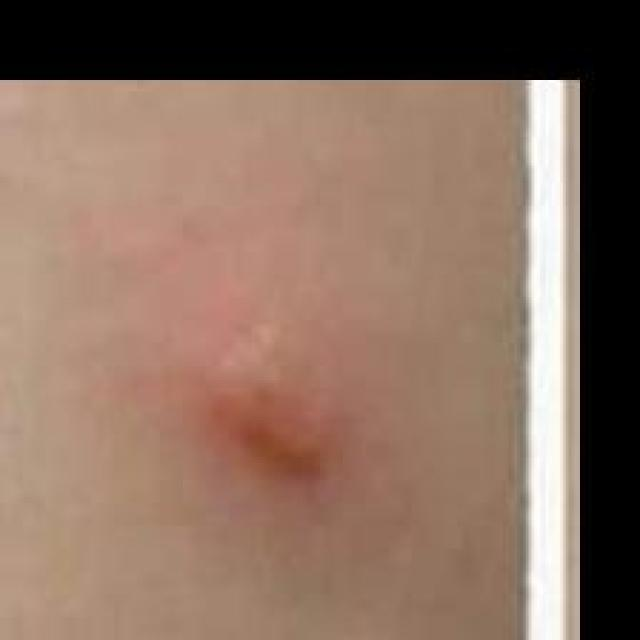others: (0, 81, 565, 640)
